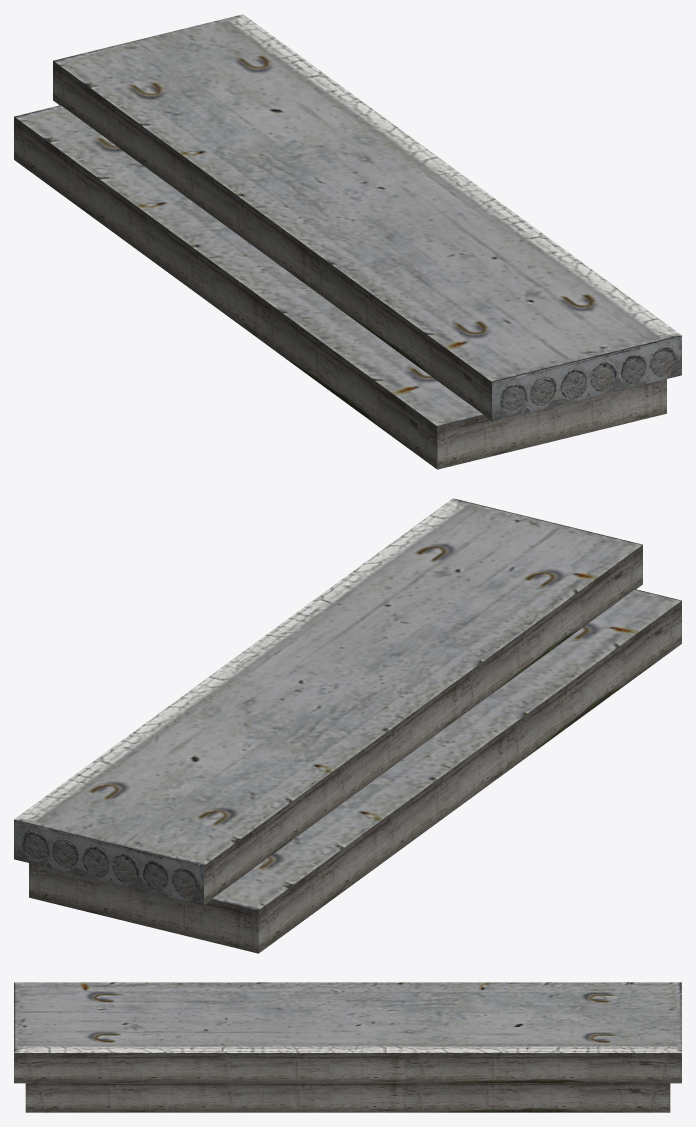
The model's file is platform_plita_l.gltf.
The picture shows the model from 3 angles, top to bottom: view 1: azimuth 30°, elevation 25°; view 2: azimuth 150°, elevation 25°; view 3: azimuth 270°, elevation 25°; orthographic projection. The views are drawn at different scales.
Size of the model in its own units: 1.87 by 0.6186 by 6.
1 material, 1 textured.
